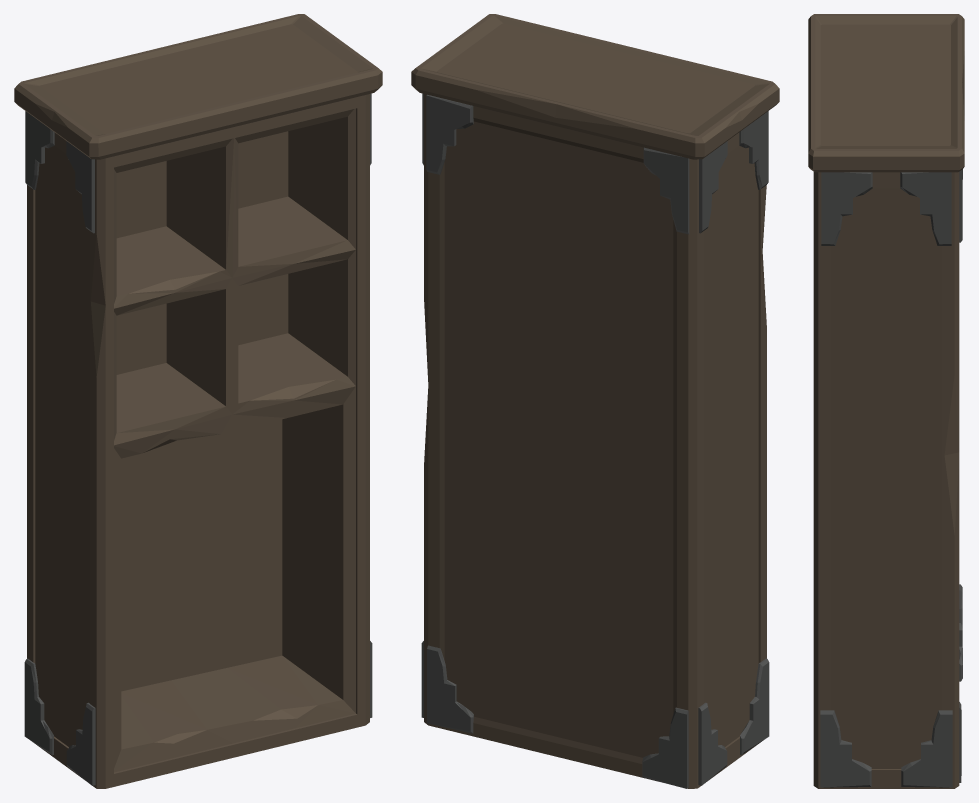
File: Shelving_006.fbx
3 renders of one model, left to right at view 1: azimuth 30°, elevation 25°; view 2: azimuth 150°, elevation 25°; view 3: azimuth 270°, elevation 25°, orthographic. The views are drawn at different scales.
Visible parts, largest first — view 1: Shelving_006; view 2: Shelving_006; view 3: Shelving_006.
Boxes of the visible parts, box(x1,y1,x2,y2) form: Shelving_006: box(14, 14, 382, 788); Shelving_006: box(411, 14, 779, 788); Shelving_006: box(808, 14, 964, 788).
Bounding box in the file's own units: 1.33 × 2.83 × 0.626.
